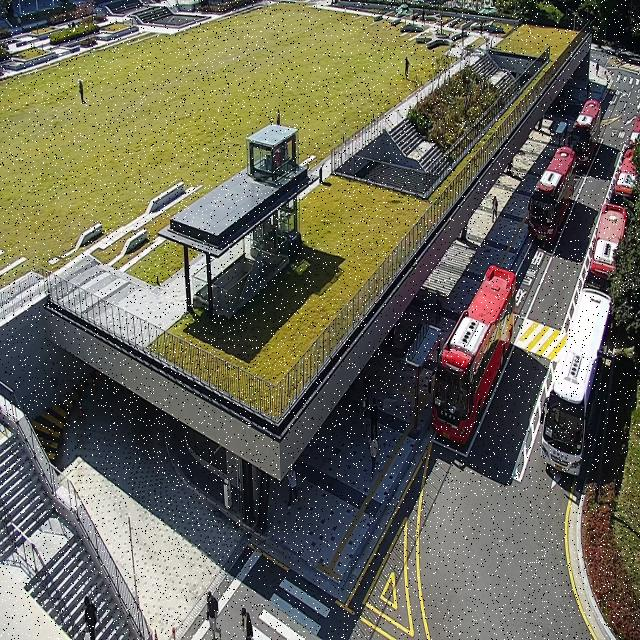queue: (414, 330, 441, 434)
